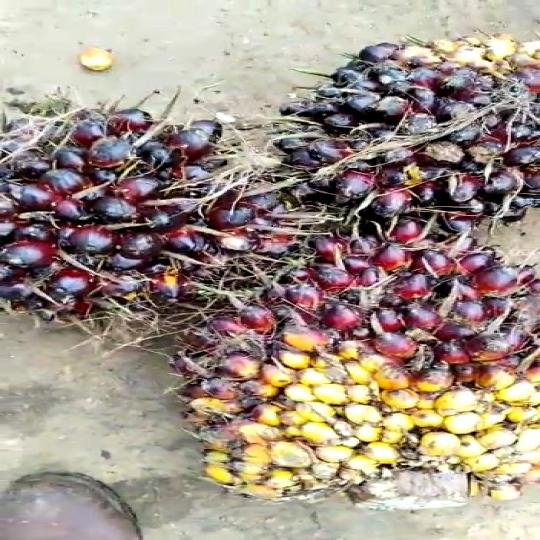kurang masak: (182, 234, 540, 505), (0, 81, 268, 346), (259, 39, 540, 231)
